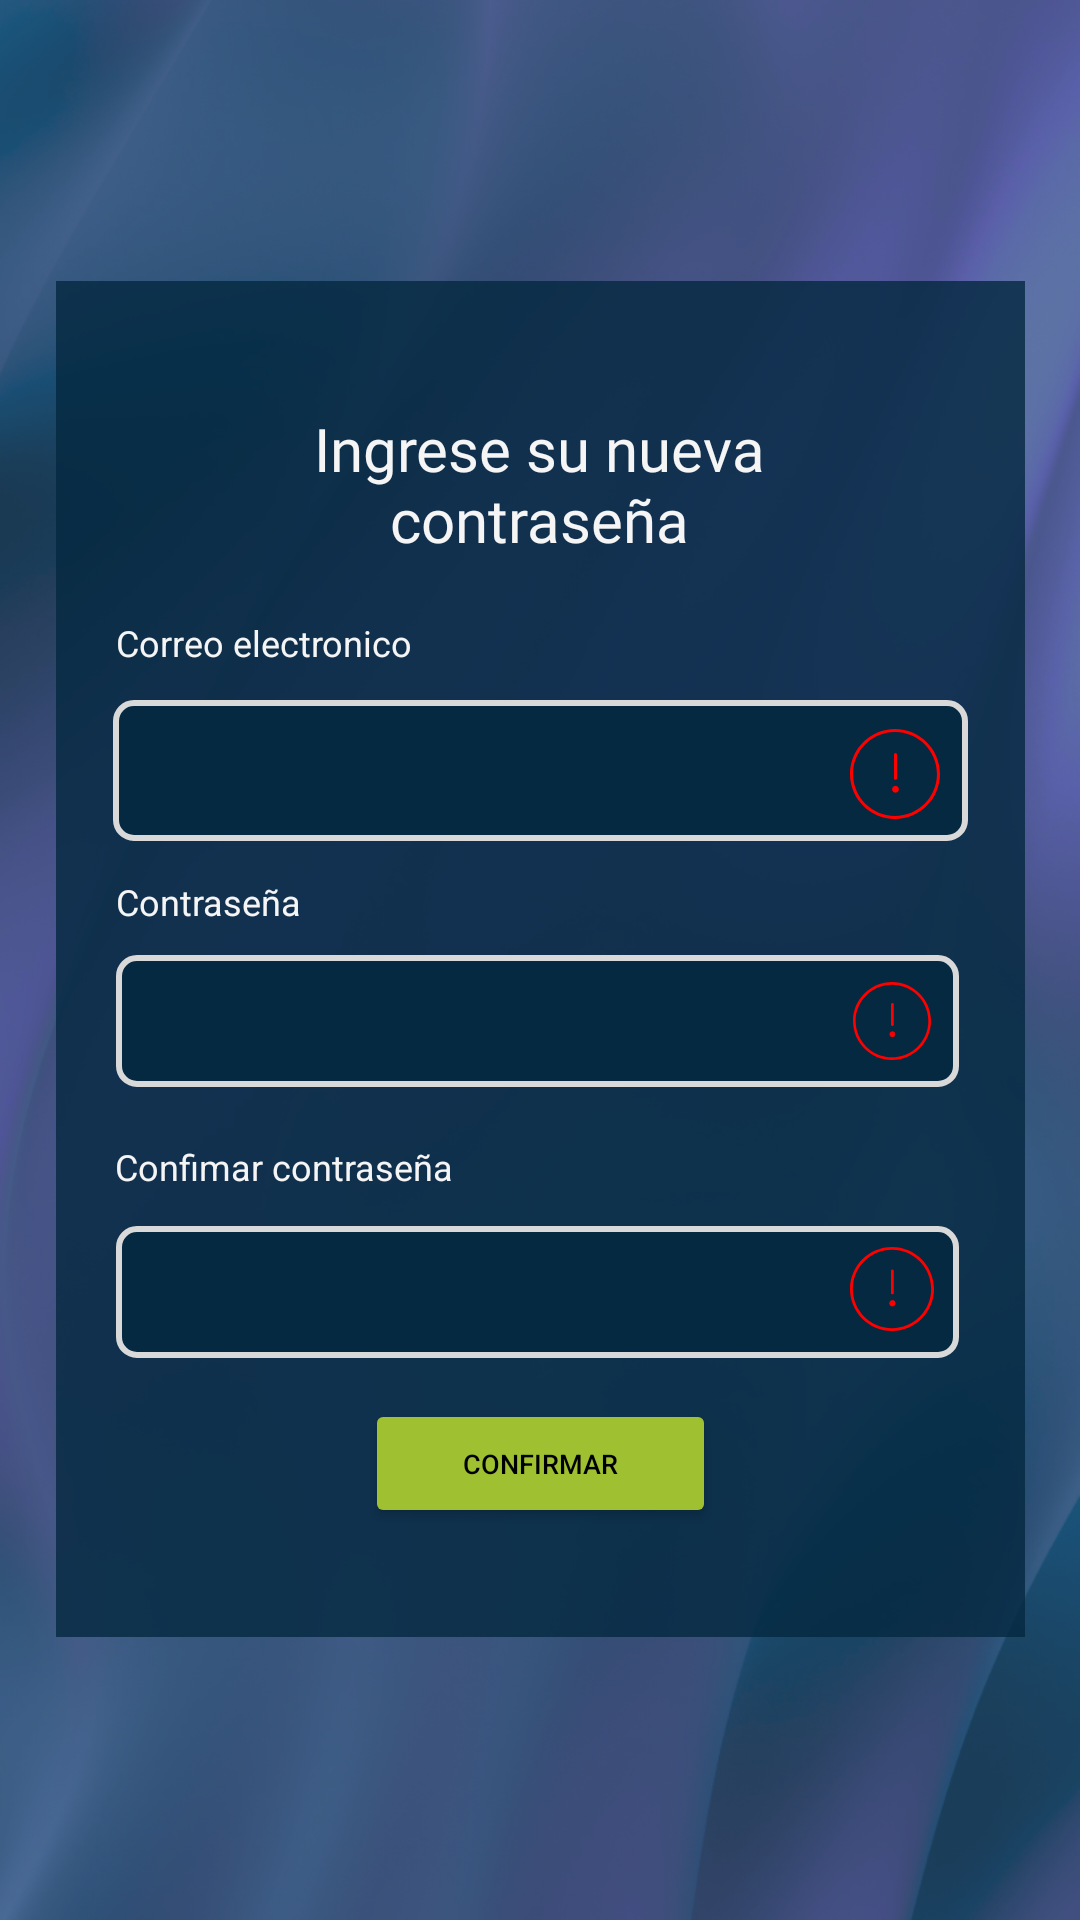

Named icons in this screenshot (1080px x 1920px) and their centers, point (x, y):
error: point (895, 774), point (892, 1021), point (892, 1289)
